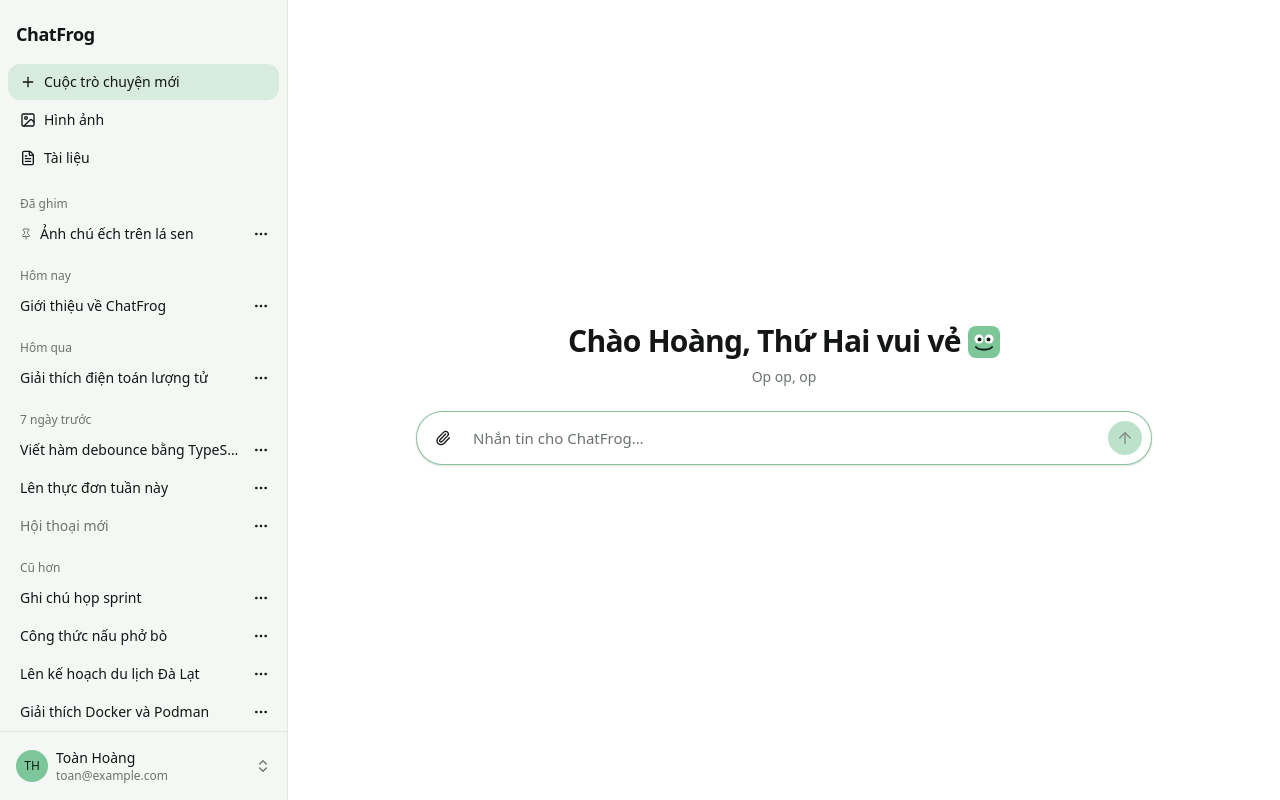
it: settings modal › saves custom instructions and theme, then updates the cached user
The image size is (1280, 800).
Click the button with aria-label "Menu người dùng" at [144, 766], box [8,740,279,792]
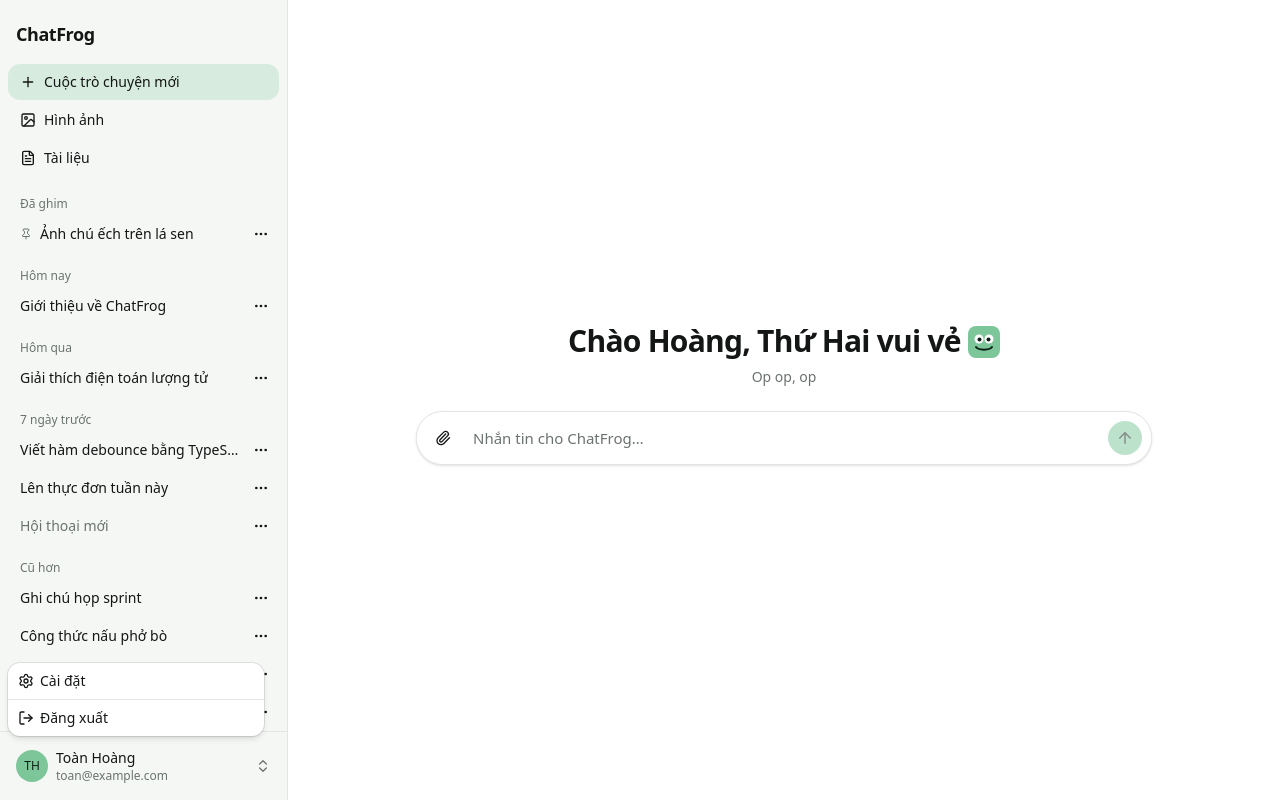
Click the menu item "Cài đặt" at [52, 680], box [18,671,86,690]
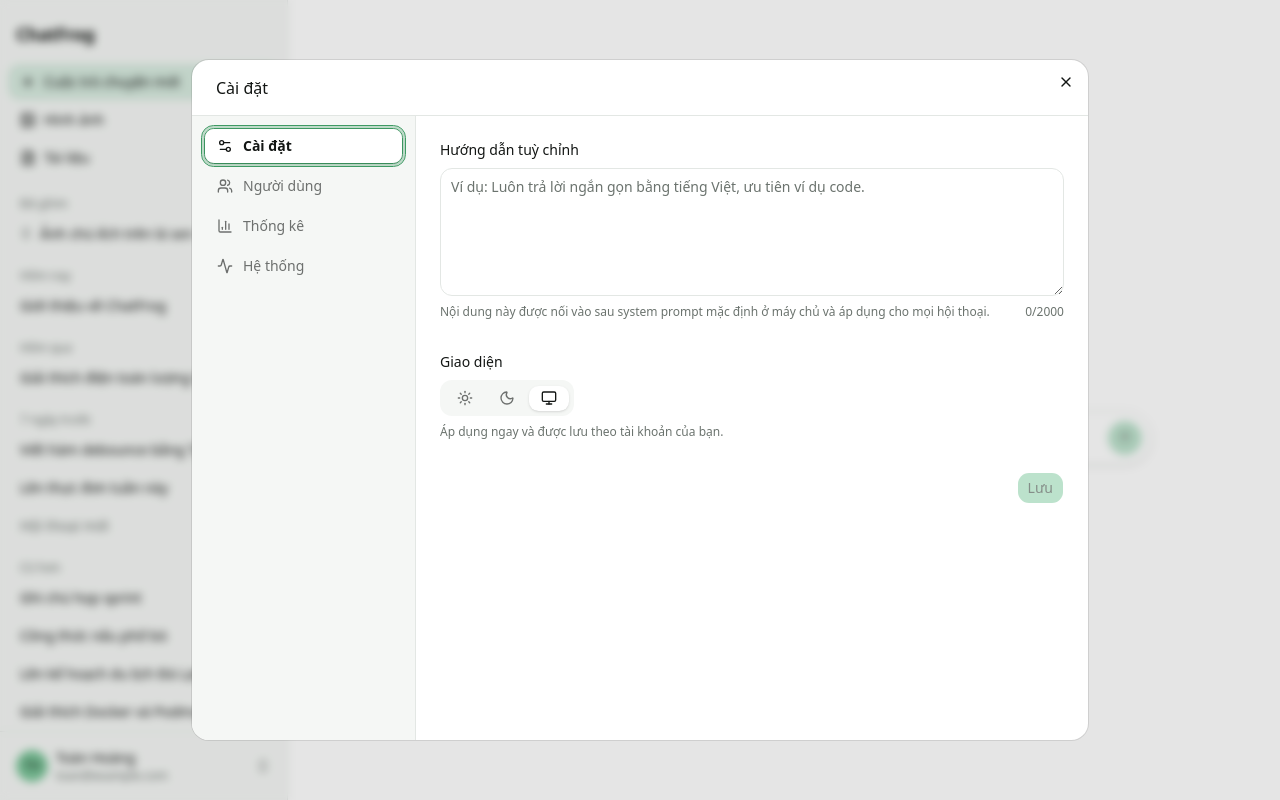
Now the button "Lưu" is disabled, box [1017,472,1064,504]
Type "Trả lời ngắn" into the text box labelled "Hướng dẫn tuỳ chỉnh" at [752, 232], box [440,168,1064,296]
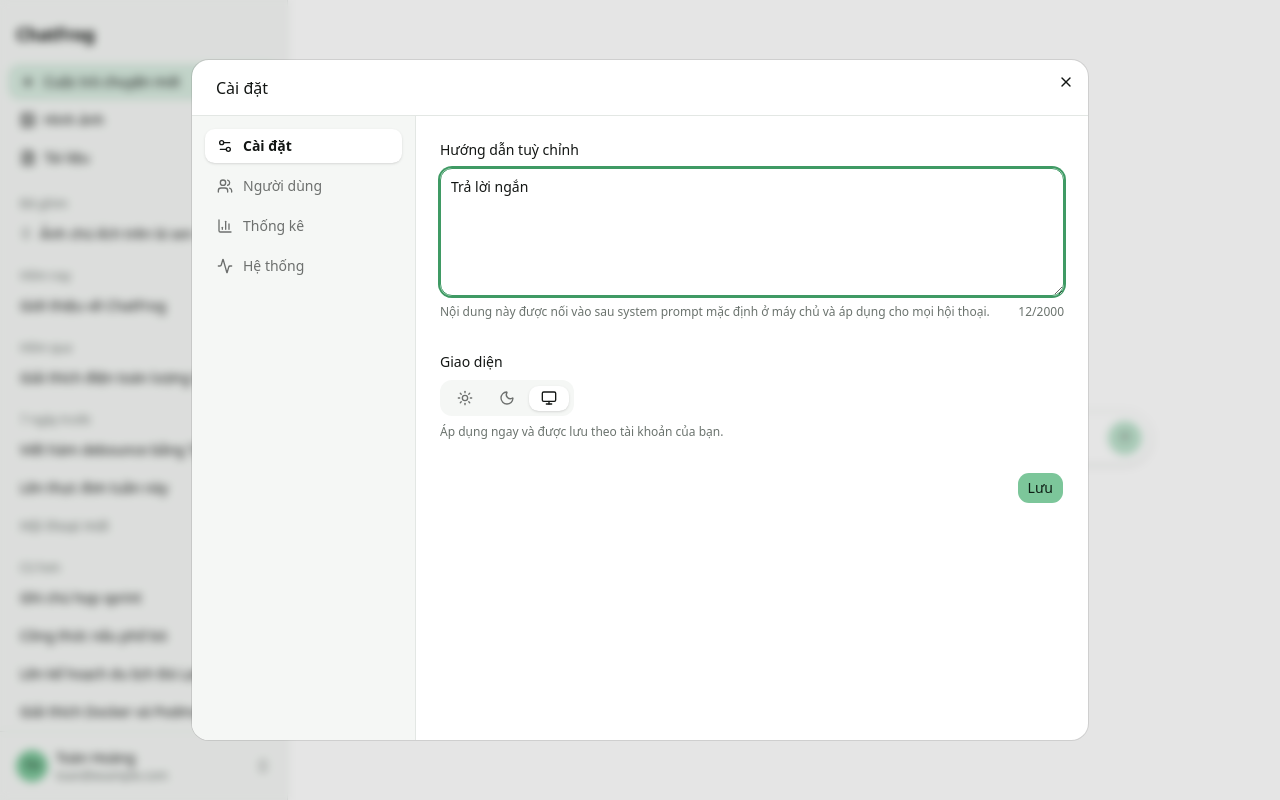
Click the tab named "Tối" at [507, 398], box [486,384,528,412]
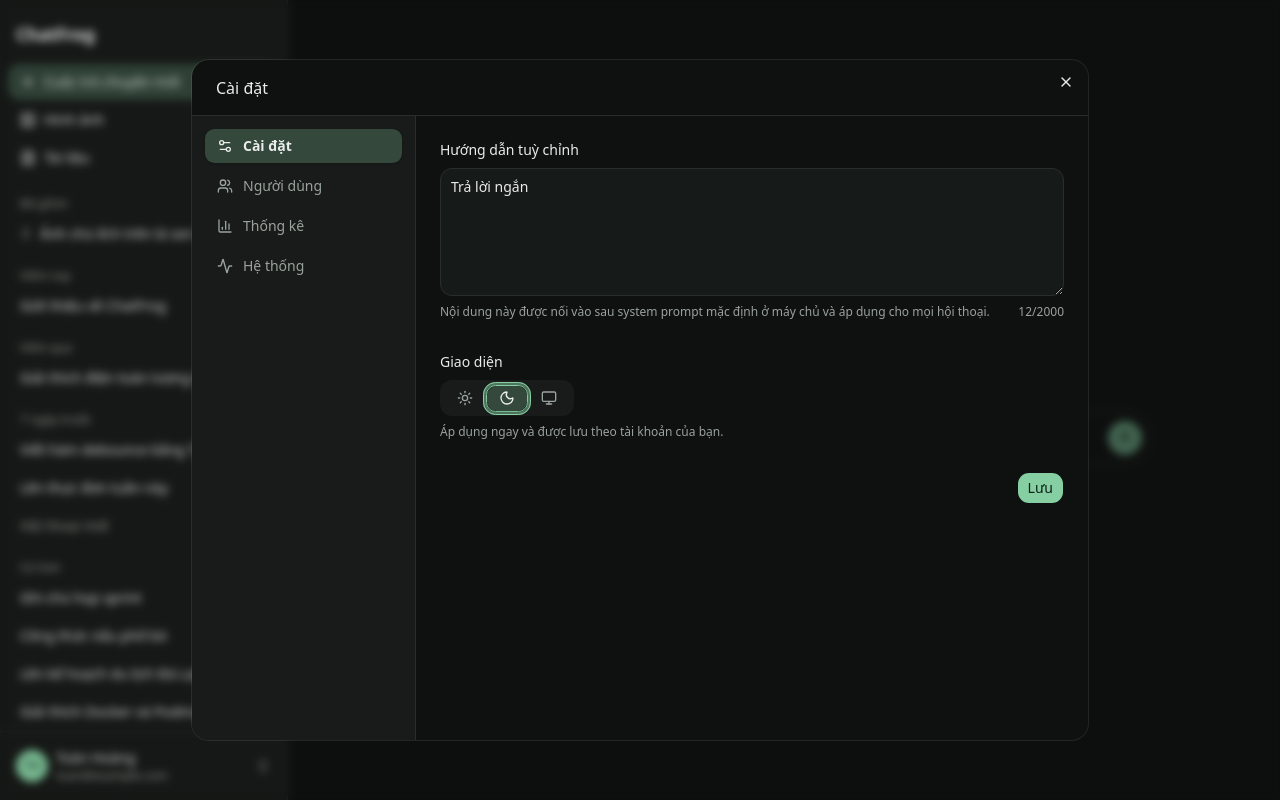
Now the button "Lưu" is enabled
Click the button "Lưu" at [1040, 488], box [1017,472,1064,504]
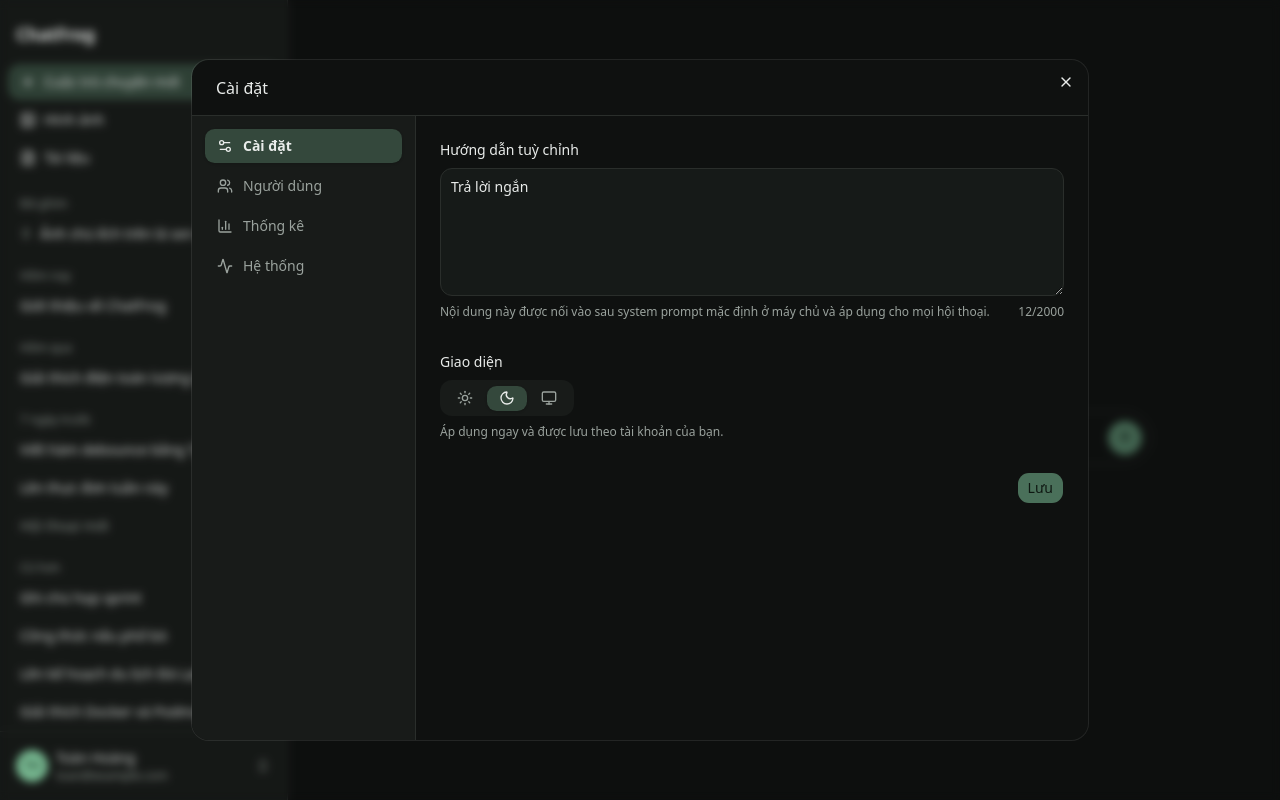
Now the button "Lưu" is disabled, box [1017,472,1064,504]
